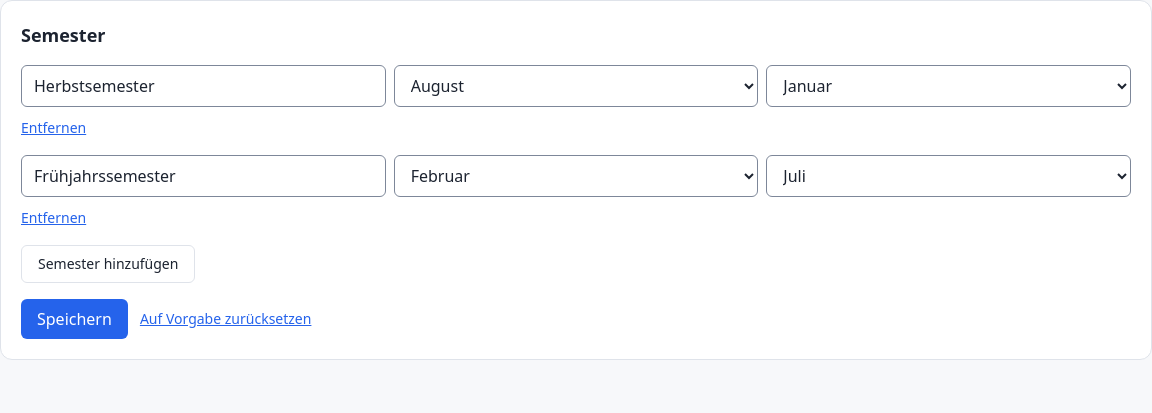
Test: Semester › «Auf Vorgabe zurücksetzen» stellt die Semester des Landes wieder her und blendet «Gespeichert» aus
Type "X" into the field named "Name Semester 1".
click(203, 86); type("X")  # box [21,65,386,107]
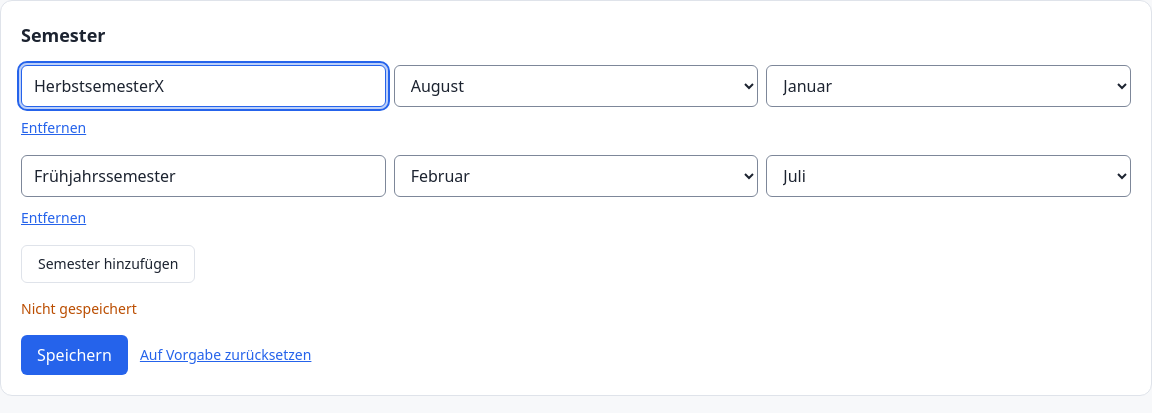
Click the button "Speichern".
click(74, 355)  # box [21,335,128,375]
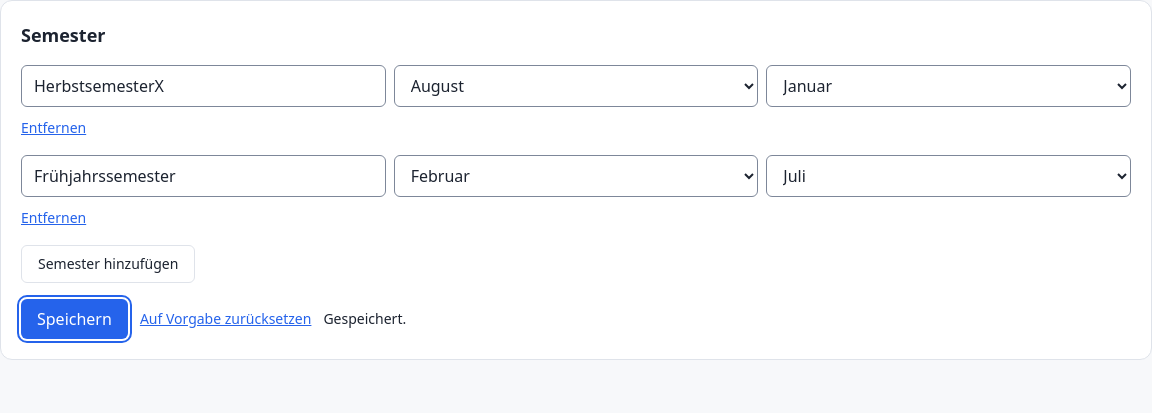
Expected: the message "Gespeichert." is shown, [323,309,406,329]
Click the button "Auf Vorgabe zurücksetzen".
click(226, 319)  # box [140,309,311,329]
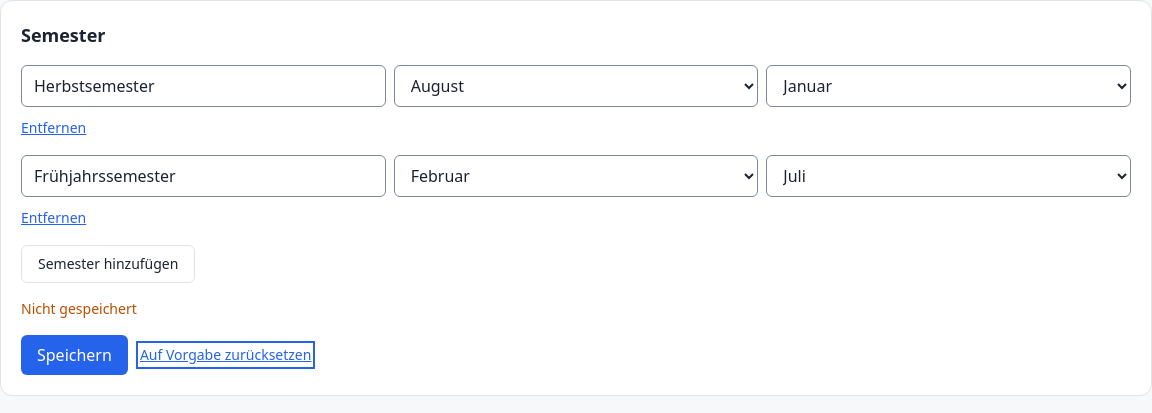
Expected: the message "Gespeichert." is gone
Expected: the field named "Name Semester 1" holds "Herbstsemester", [21,65,386,107]
